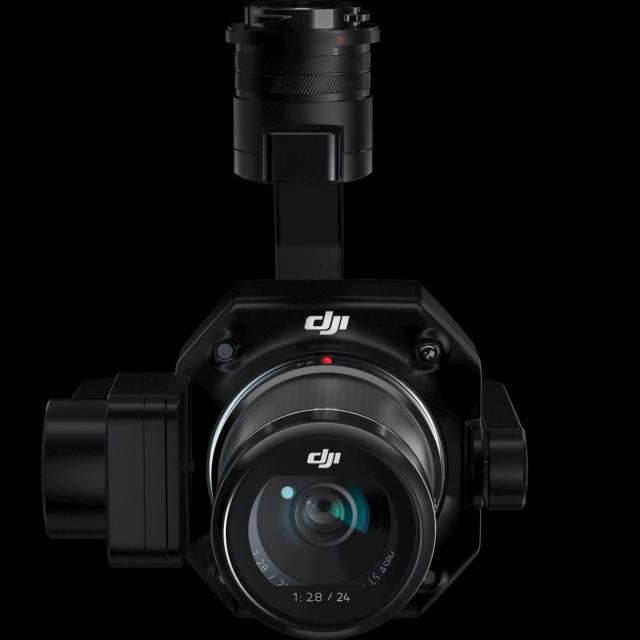hidden camera: (220, 428, 431, 628)
